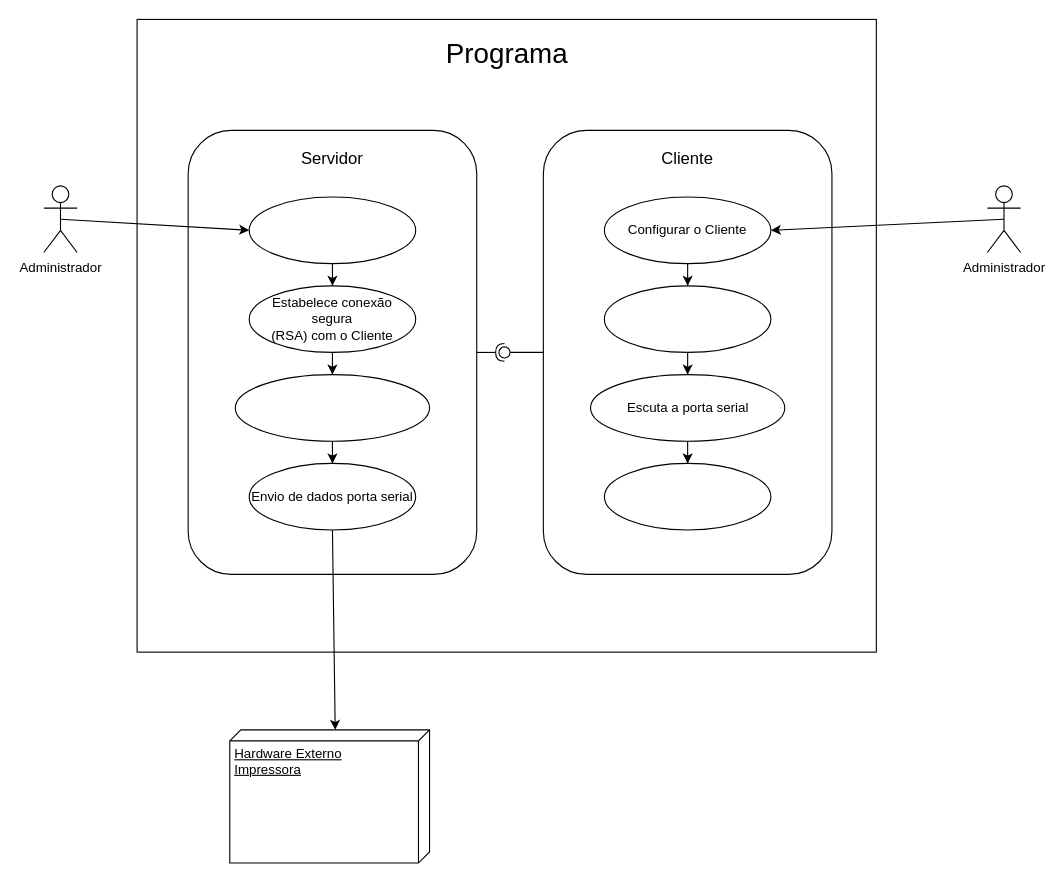
Image size: 1063x882. Some labels were removed from this diagram. Each missing label, with the centre of its shape:
Configurar o Servidor: (x=332, y=230)
Enviar dados ao servidor: (x=687, y=496)
Estabelece conexão segura (RSA) com o Servidor: (x=687, y=318)
Recebimento de dados: (x=332, y=407)
